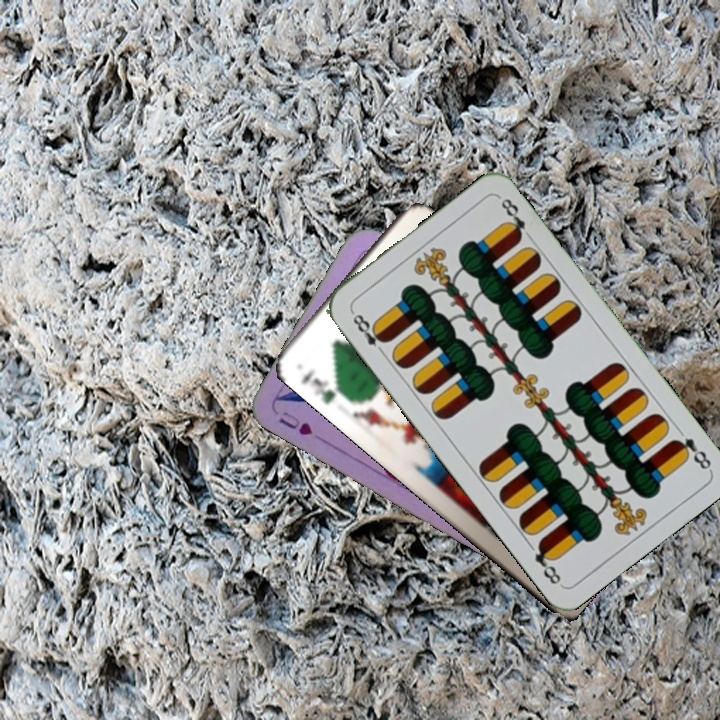E8: (347, 307, 391, 358), (668, 433, 714, 473)
GK: (297, 364, 348, 407)
HU: (275, 406, 316, 438)
